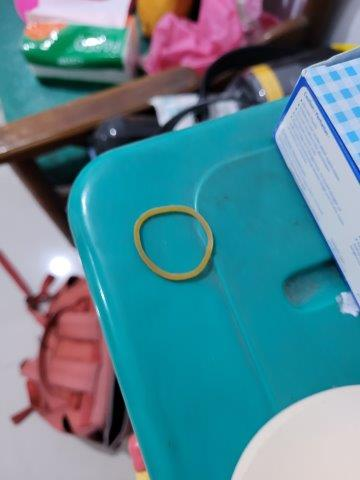karet: (131, 206, 217, 284)
